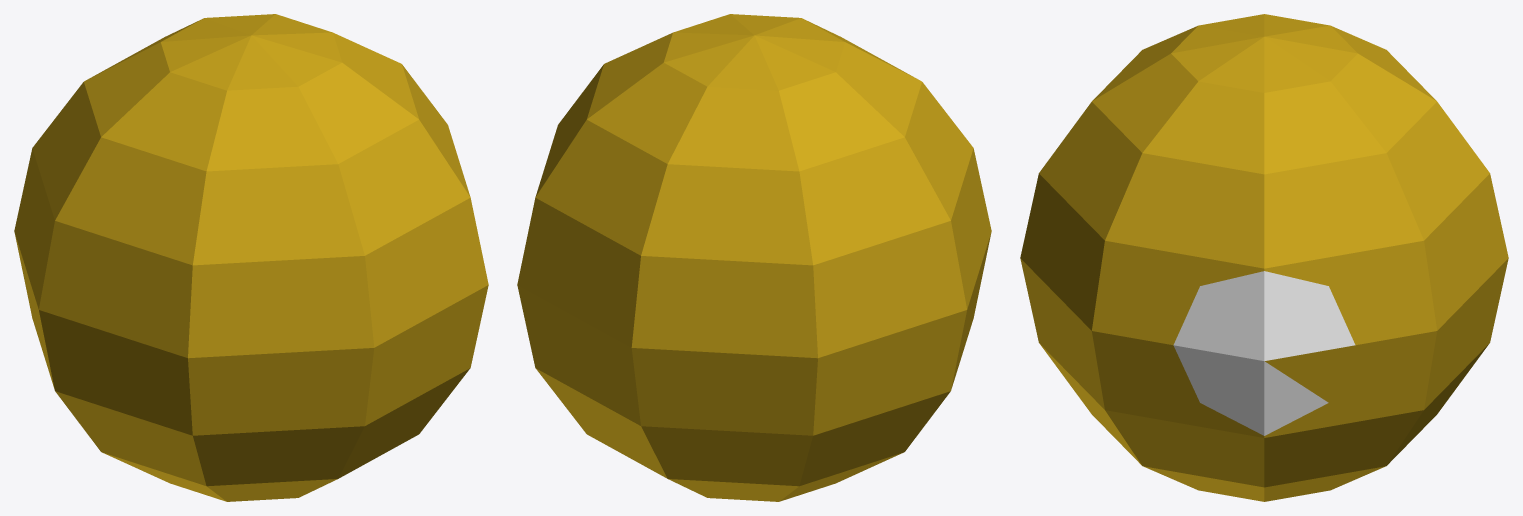
Rendered from amarela1.obj.
The picture shows the model from 3 angles, left to right: view 1: azimuth 30°, elevation 25°; view 2: azimuth 150°, elevation 25°; view 3: azimuth 270°, elevation 25°; orthographic projection.
Parts seen in each view (by area): view 1: all_balls.007; view 2: all_balls.007; view 3: all_balls.007.
Part boxes in pixels (box(x1,y1,x2,y2)): all_balls.007: box(14, 14, 488, 501); all_balls.007: box(517, 14, 991, 501); all_balls.007: box(1020, 14, 1508, 501).
Size of the model in its own units: 0.3459 by 0.3459 by 0.3459.
